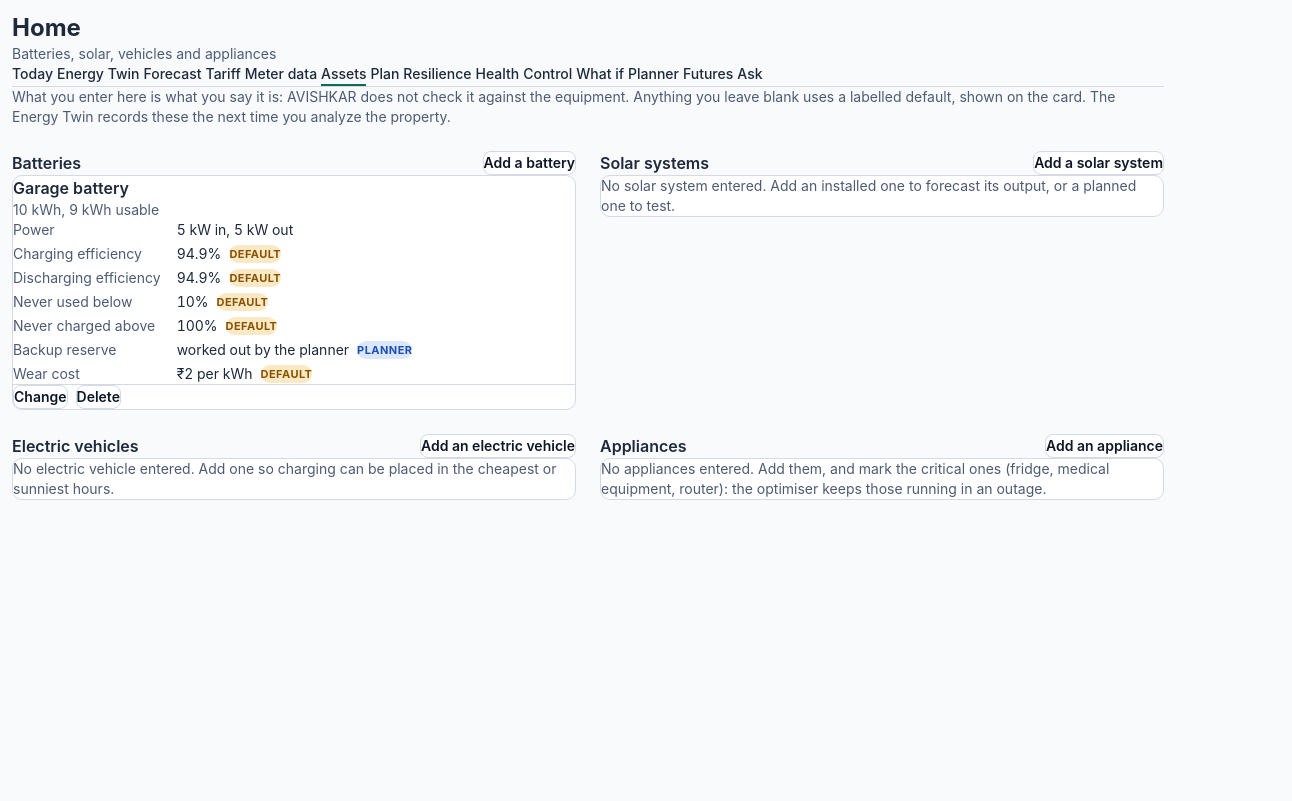
Test case: AssetsView › changes an asset through a prefilled form
Click the button with aria-label "Change Garage battery" at point(40, 397), box [13,385,68,409]
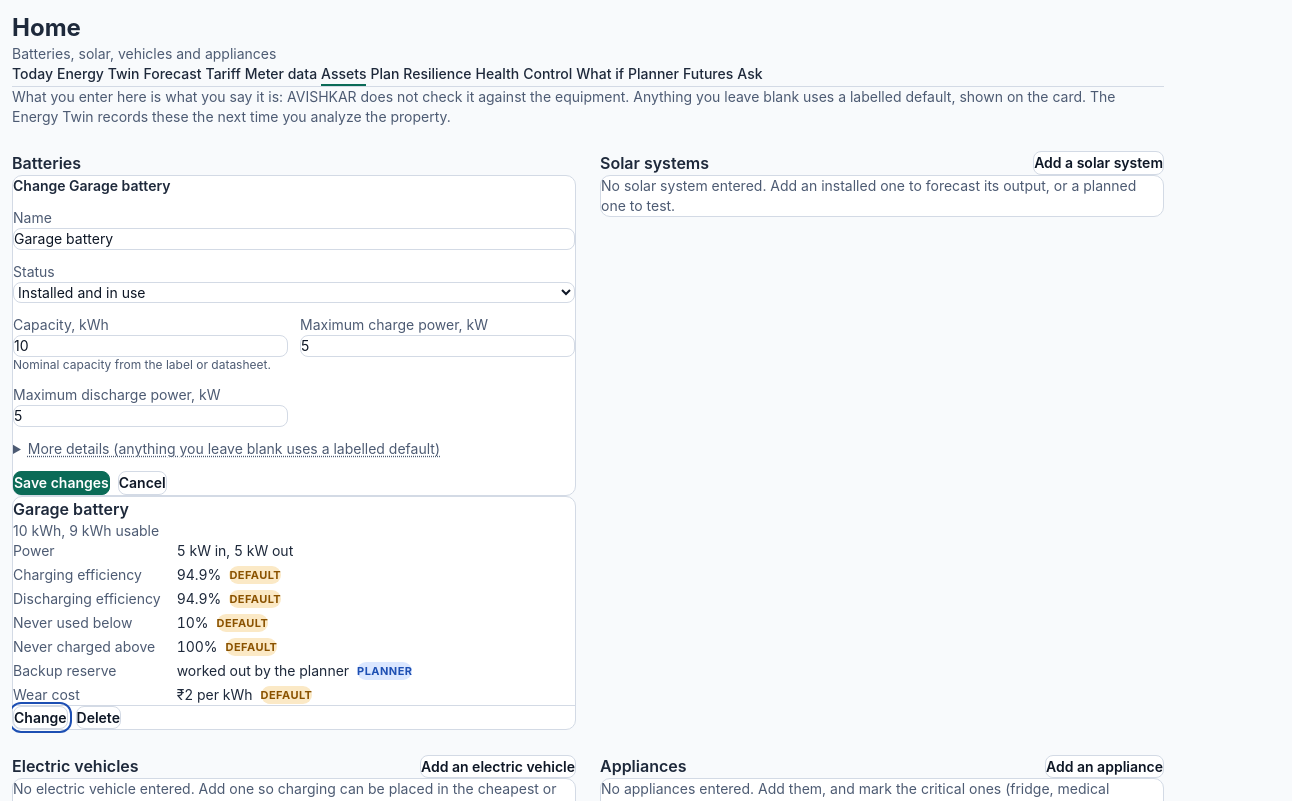
Expected: the field labelled "Name" holds "Garage battery"
Replace the text in the field labelled "Name" with "Renamed" at point(294, 239), box [13,228,575,250]
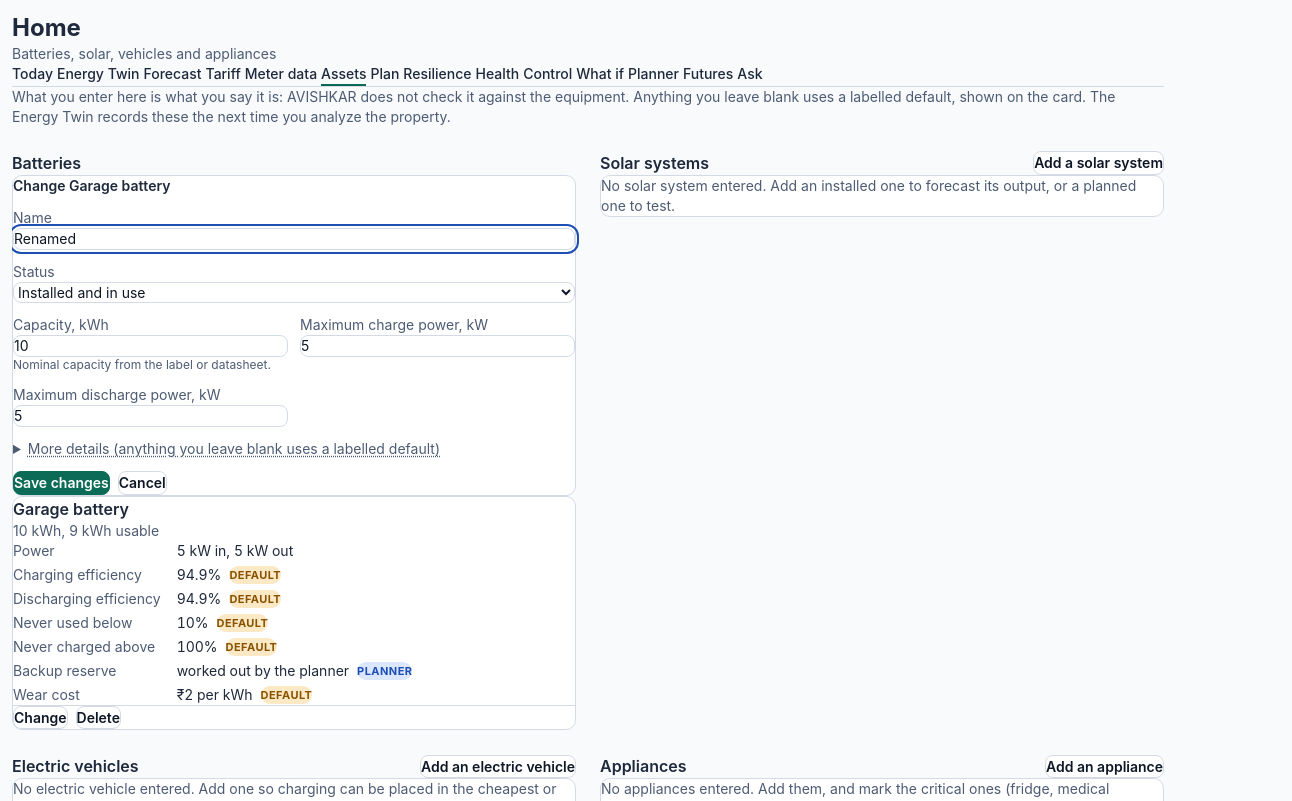
Click the button "Save changes" at point(61, 483), box [13,471,110,495]
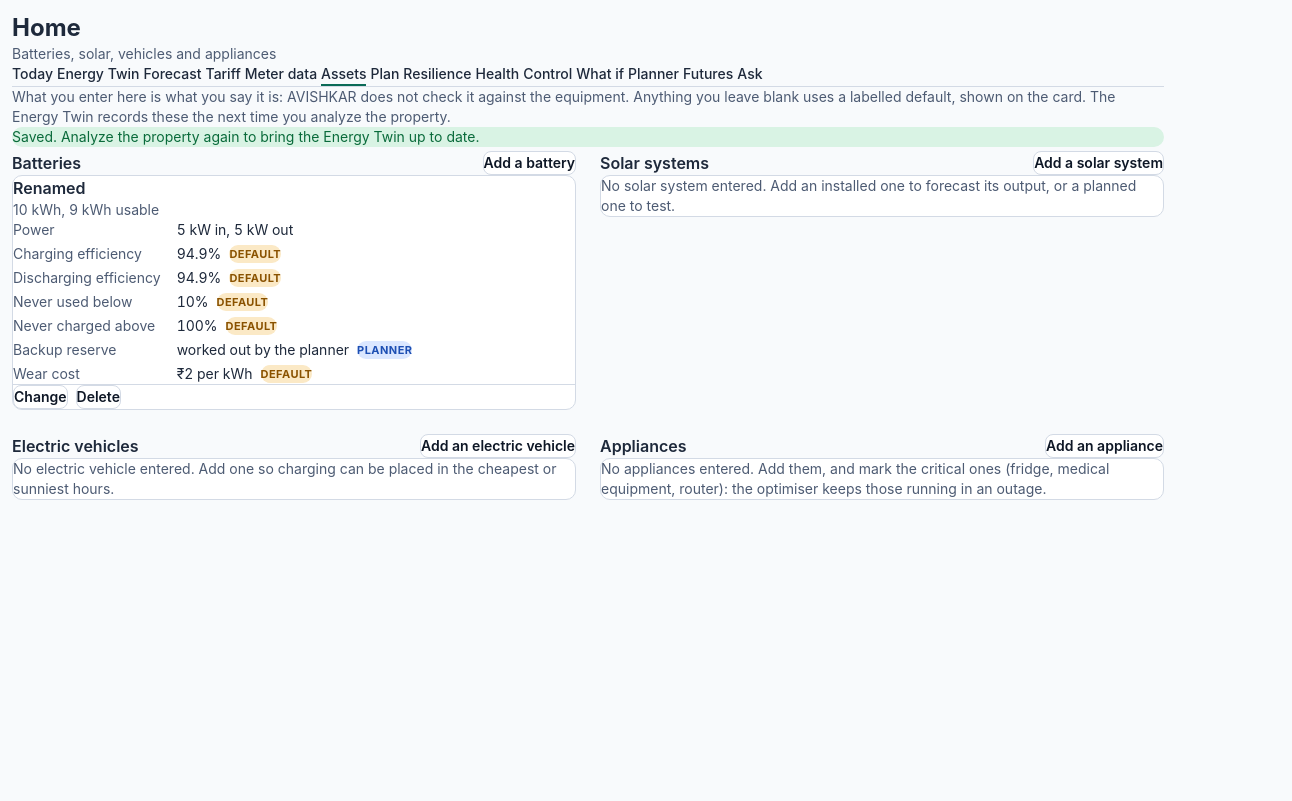
Expected: the element "Renamed" is shown, [12,175,576,410]
